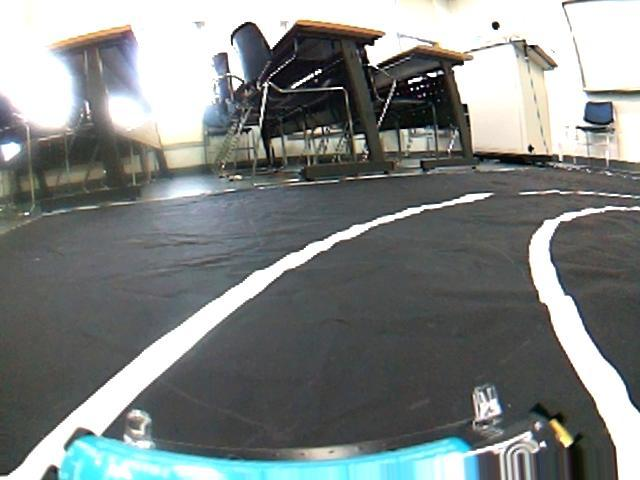right: (11, 184, 640, 480)
